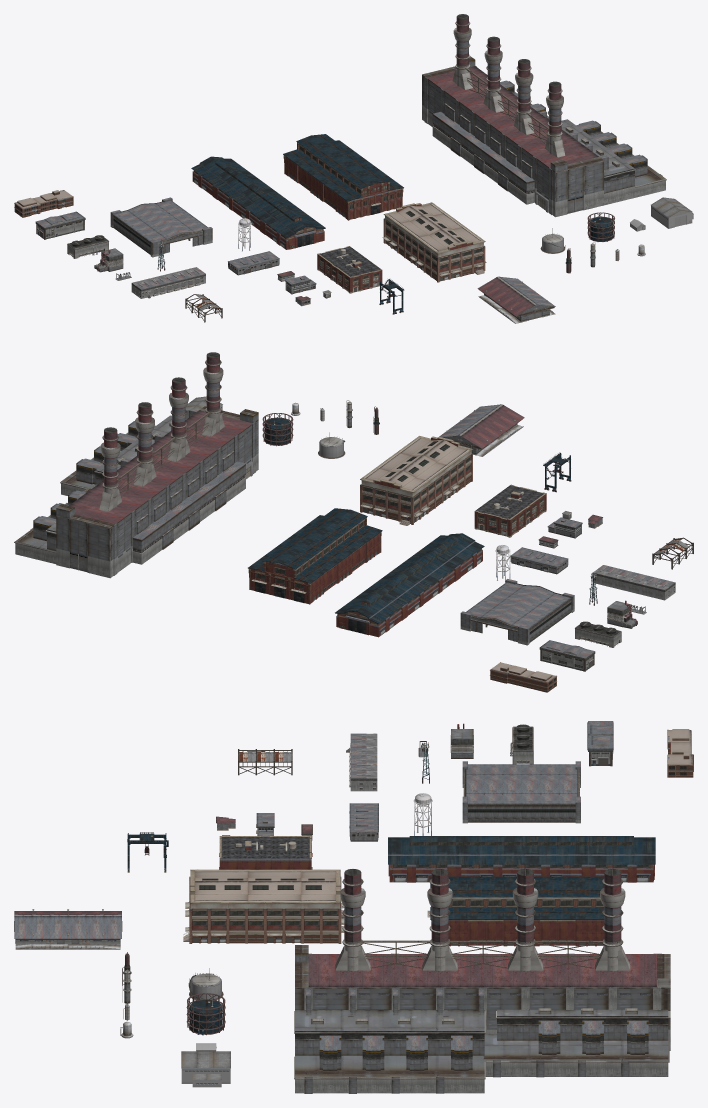
File: Industrial_Building_Set.fbx
The picture shows the model from 3 angles, top to bottom: view 1: azimuth 30°, elevation 25°; view 2: azimuth 150°, elevation 25°; view 3: azimuth 270°, elevation 25°; orthographic projection. The views are drawn at different scales.
Parts seen in each view (by area): view 1: Industrial_Powerplant_1, Industrial_FactoryPlant_1, Industrial_Building_10, Industrial_FactoryPlant_2, Industrial_Hangar_2, Industrial_Warehouse_5, Industrial_Building_1, Industrial_LogisticTerminal_1, Industrial_Warehouse_4, Industrial_Warehouse_1, Industrial_Warehouse_3, Industrial_GenericBuilding_4 (+4 smaller); view 2: Industrial_Powerplant_1, Industrial_FactoryPlant_1, Industrial_Building_10, Industrial_FactoryPlant_2, Industrial_Hangar_2, Industrial_Building_1, Industrial_Warehouse_5, Industrial_LogisticTerminal_1, Industrial_Warehouse_4, Industrial_Warehouse_1, Industrial_GenericBuilding_4, Industrial_Tank_2 (+6 smaller); view 3: Industrial_Powerplant_1, Industrial_Building_10, Industrial_FactoryPlant_2, Industrial_FactoryPlant_1, Industrial_Hangar_2, Industrial_Warehouse_5, Industrial_Building_1, Industrial_Warehouse_3, Industrial_LogisticTerminal_1, Industrial_Tank_2, Industrial_Warehouse_4, Industrial_Warehouse_1 (+6 smaller).
Part boxes in pixels (<box>): Industrial_Powerplant_1: <box>422,14,666,217</box>; Industrial_FactoryPlant_1: <box>283,134,403,220</box>; Industrial_Building_10: <box>382,202,486,282</box>; Industrial_FactoryPlant_2: <box>191,156,325,249</box>; Industrial_Hangar_2: <box>110,197,212,257</box>; Industrial_Warehouse_5: <box>477,276,555,323</box>; Industrial_Building_1: <box>317,246,382,293</box>; Industrial_LogisticTerminal_1: <box>131,267,205,298</box>; Industrial_Warehouse_4: <box>14,190,73,217</box>; Industrial_Warehouse_1: <box>35,211,85,239</box>; Industrial_Warehouse_3: <box>651,197,693,228</box>; Industrial_GenericBuilding_4: <box>228,251,279,275</box>; Industrial_Powerplant_1: <box>14,352,258,578</box>; Industrial_FactoryPlant_1: <box>248,508,382,604</box>; Industrial_Building_10: <box>360,436,473,525</box>; Industrial_FactoryPlant_2: <box>335,533,484,637</box>; Industrial_Hangar_2: <box>460,579,574,645</box>; Industrial_Building_1: <box>474,484,546,537</box>; Industrial_Warehouse_5: <box>438,404,524,456</box>; Industrial_LogisticTerminal_1: <box>592,565,675,600</box>; Industrial_Warehouse_4: <box>490,662,556,692</box>; Industrial_Warehouse_1: <box>539,640,595,671</box>; Industrial_GenericBuilding_4: <box>510,547,568,574</box>; Industrial_Tank_2: <box>262,413,293,446</box>; Industrial_Powerplant_1: <box>294,868,670,1093</box>; Industrial_Building_10: <box>183,869,344,943</box>; Industrial_FactoryPlant_2: <box>388,836,655,882</box>; Industrial_FactoryPlant_1: <box>427,876,604,946</box>; Industrial_Hangar_2: <box>462,761,580,823</box>; Industrial_Warehouse_5: <box>14,909,122,949</box>; Industrial_Building_1: <box>219,836,312,869</box>; Industrial_Warehouse_3: <box>181,1051,230,1087</box>; Industrial_LogisticTerminal_1: <box>346,733,377,791</box>; Industrial_Tank_2: <box>186,993,225,1035</box>; Industrial_Warehouse_4: <box>667,729,693,777</box>; Industrial_Warehouse_1: <box>587,721,613,766</box>.
Size of the model in its own units: 427 by 90.62 by 345.
